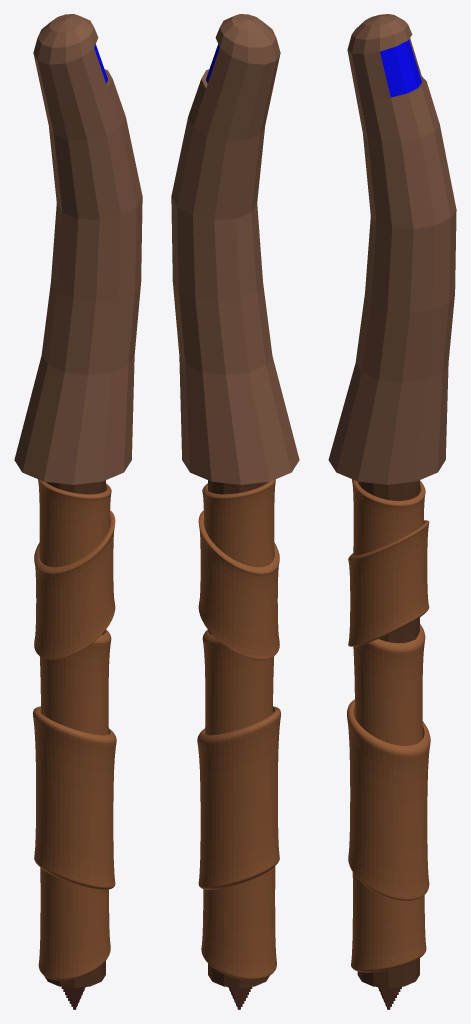
Rendered from Wand 344.glb.
3 renders of one model, left to right at view 1: azimuth 30°, elevation 25°; view 2: azimuth 150°, elevation 25°; view 3: azimuth 330°, elevation 25°, orthographic.
Parts seen in each view (by area): view 1: GeneratedWand; view 2: GeneratedWand; view 3: GeneratedWand.
Part boxes in pixels (x1,y1,x2,y2): GeneratedWand: (14,14,142,1009); GeneratedWand: (171,14,299,1009); GeneratedWand: (328,14,456,1009).
Size of the model in its own units: 0.0644 by 0.5324 by 0.0572.
